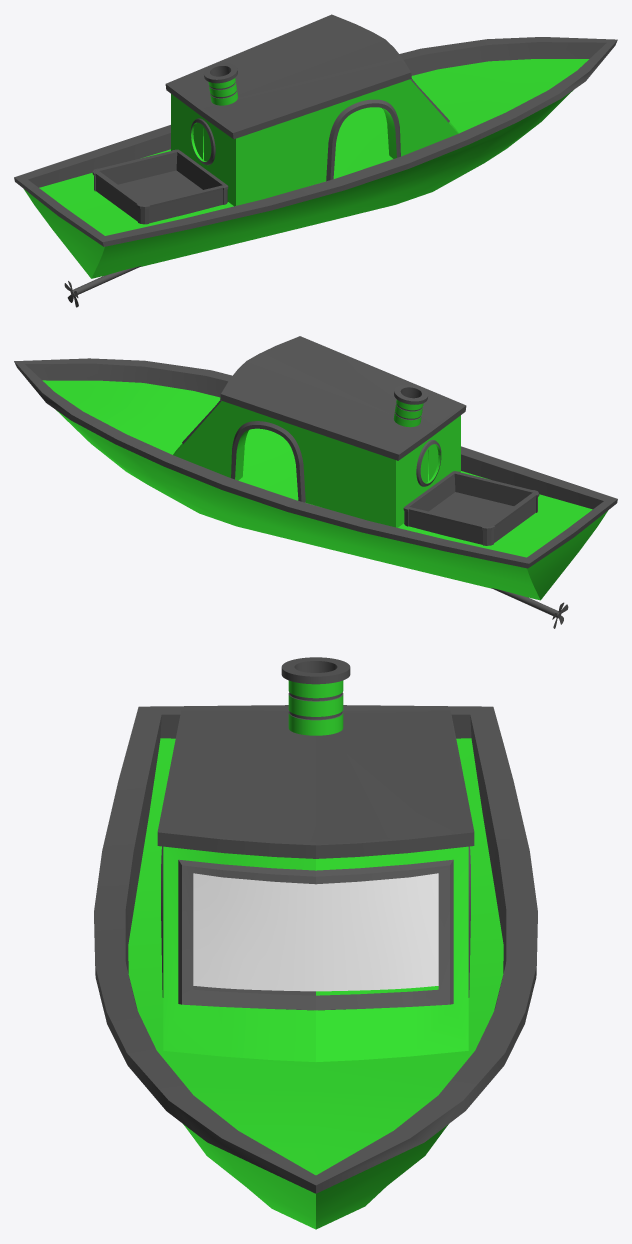
Rendered from boat 2.fbx.
3 views of the same model, one above another, from view 1: azimuth 30°, elevation 25°; view 2: azimuth 150°, elevation 25°; view 3: azimuth 270°, elevation 25° (orthographic). The views are drawn at different scales.
Parts seen in each view (by area): view 1: Body, Room, Box, Chimney, Motor stick; view 2: Body, Room, Box, Chimney, Motor stick; view 3: Body, Room, Window, Chimney.
Boxes of the visible parts, x1,y1,x2,y2 form: Body: (14,37,617,278); Room: (165,14,458,206); Box: (92,149,228,224); Chimney: (203,62,238,105); Motor stick: (70,266,141,296); Body: (14,358,617,600); Room: (173,336,466,527); Box: (403,471,539,545); Chimney: (393,384,428,427); Motor stick: (491,588,561,618); Body: (94,705,537,1229); Room: (157,710,474,1061); Window: (193,873,438,991); Chimney: (281,657,350,735).
Size of the model in its own units: 275 by 274 by 802.
